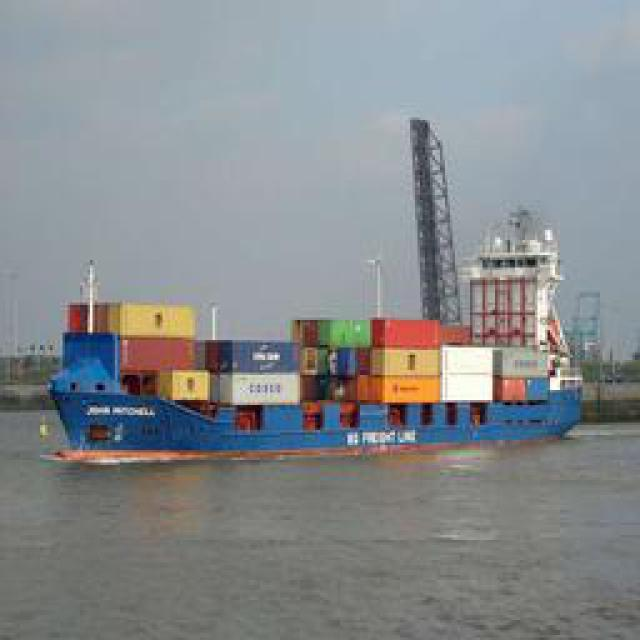Ship: (56, 239, 581, 454)
